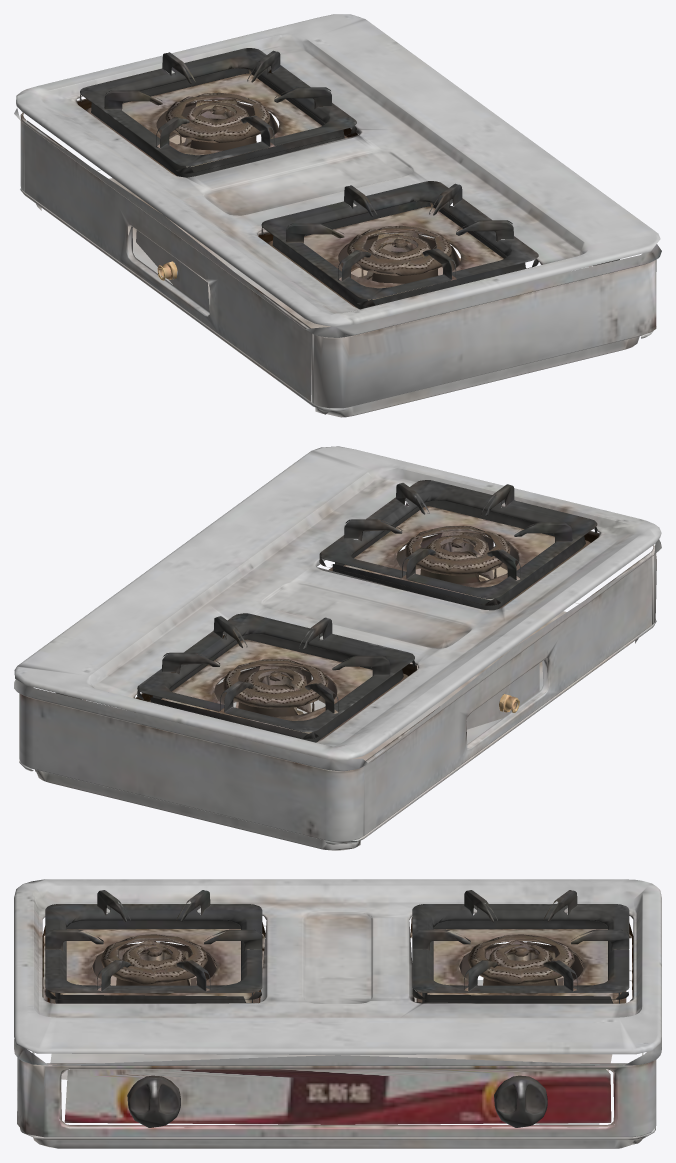
Rendered from appliance_gasStove_table_a01.glb.
3 views of the same model, one above another, from view 1: azimuth 30°, elevation 25°; view 2: azimuth 150°, elevation 25°; view 3: azimuth 270°, elevation 25° (orthographic).
Parts seen in each view (by area): view 1: sm_appliance_gasStove_table_a01_01; view 2: sm_appliance_gasStove_table_a01_01; view 3: sm_appliance_gasStove_table_a01_01.
Part boxes in pixels (x1,y1,x2,y2): sm_appliance_gasStove_table_a01_01: (14,14,661,417); sm_appliance_gasStove_table_a01_01: (14,446,661,850); sm_appliance_gasStove_table_a01_01: (14,879,661,1148).
Bounding box in the file's own units: 0.491 × 0.1605 × 0.7534.
Materials: 3 (3 with a texture image).
